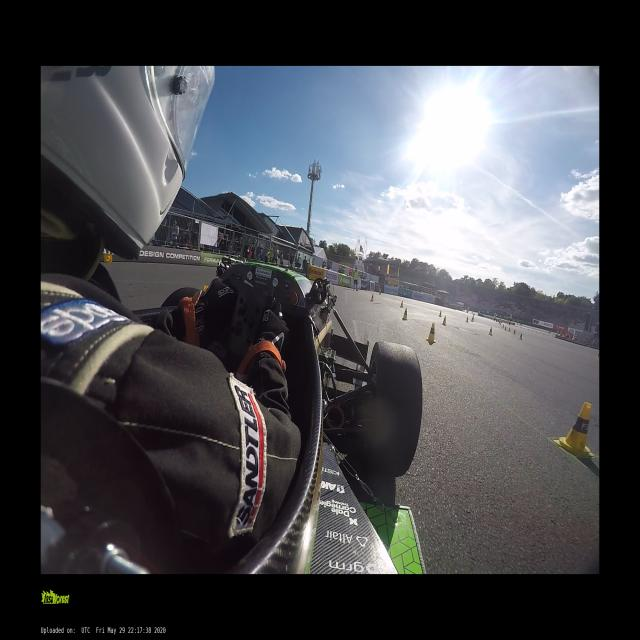yellow_cone: (557, 402, 595, 458), (425, 322, 436, 342), (400, 308, 408, 320), (104, 253, 112, 263), (442, 315, 447, 326), (488, 327, 492, 335), (370, 294, 374, 302), (399, 300, 403, 308), (438, 310, 441, 317), (519, 333, 522, 340), (513, 329, 516, 335), (471, 316, 474, 322), (466, 316, 468, 324), (471, 315, 474, 320), (597, 353, 599, 358), (504, 326, 506, 331), (508, 328, 510, 332), (379, 290, 381, 294)
